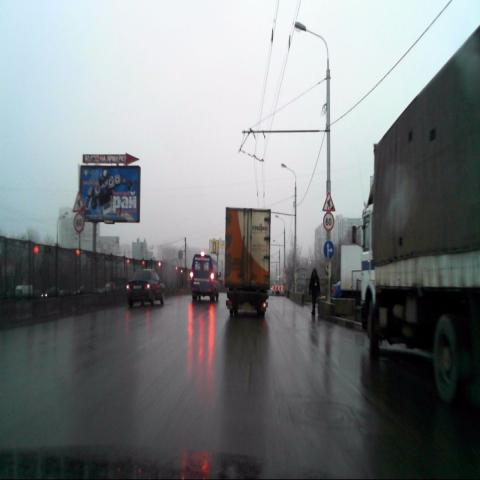1_25: (322, 191, 335, 212)
